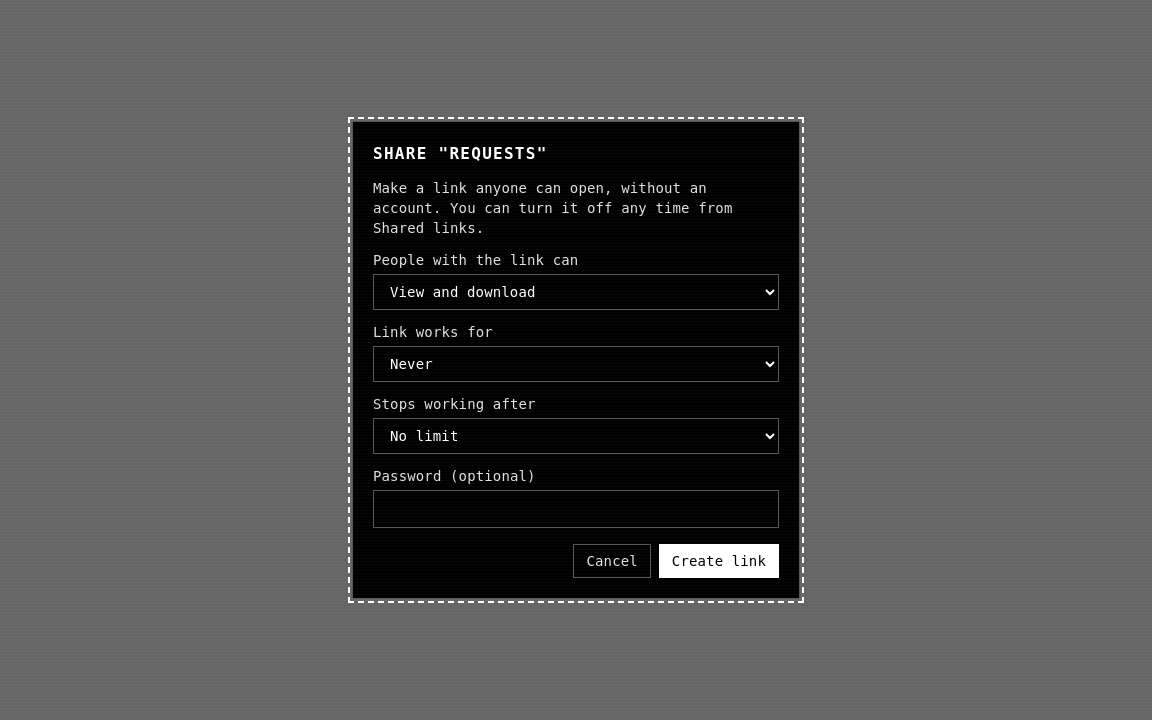
Test: Share dialog options › offers a file request for folders and hides download limits for it
Expected: the dropdown labelled "Stops working after" is shown, [373,418,779,454]
Select "Only send me files (a file request)" in the dropdown labelled "People with the link can" at (576, 292), box [373,274,779,310]
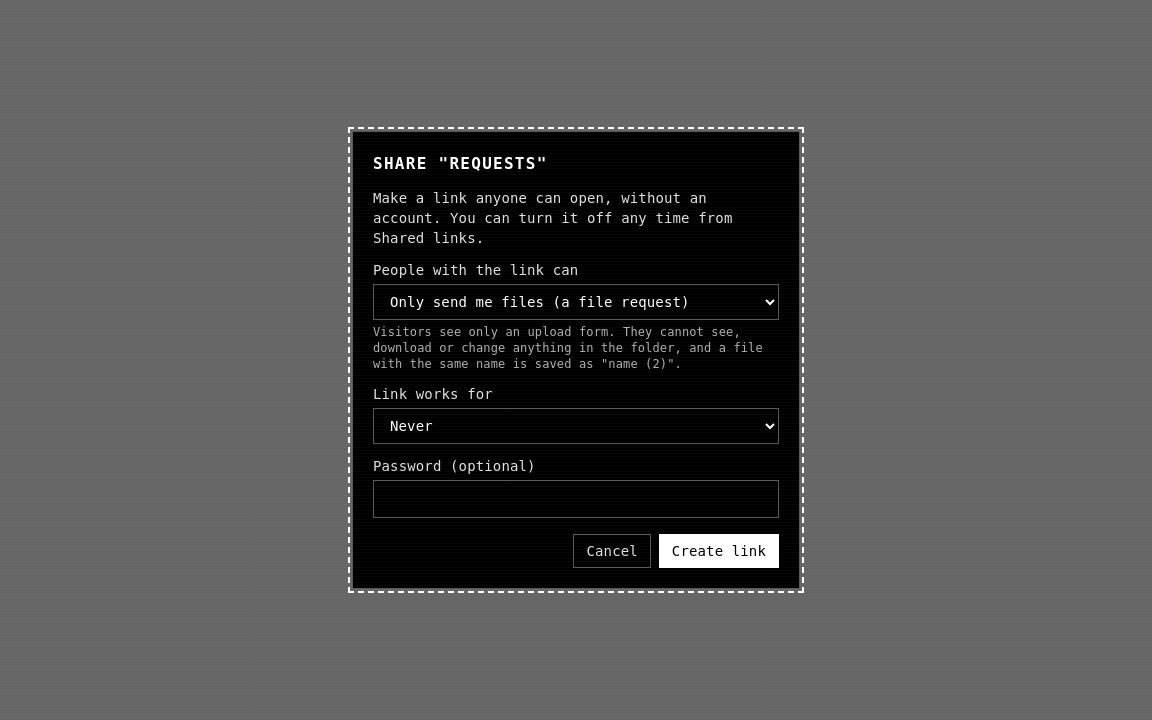
Now the label labelled "Stops working after" is gone
Click the button "Create link" at (719, 551), box [659,534,779,568]
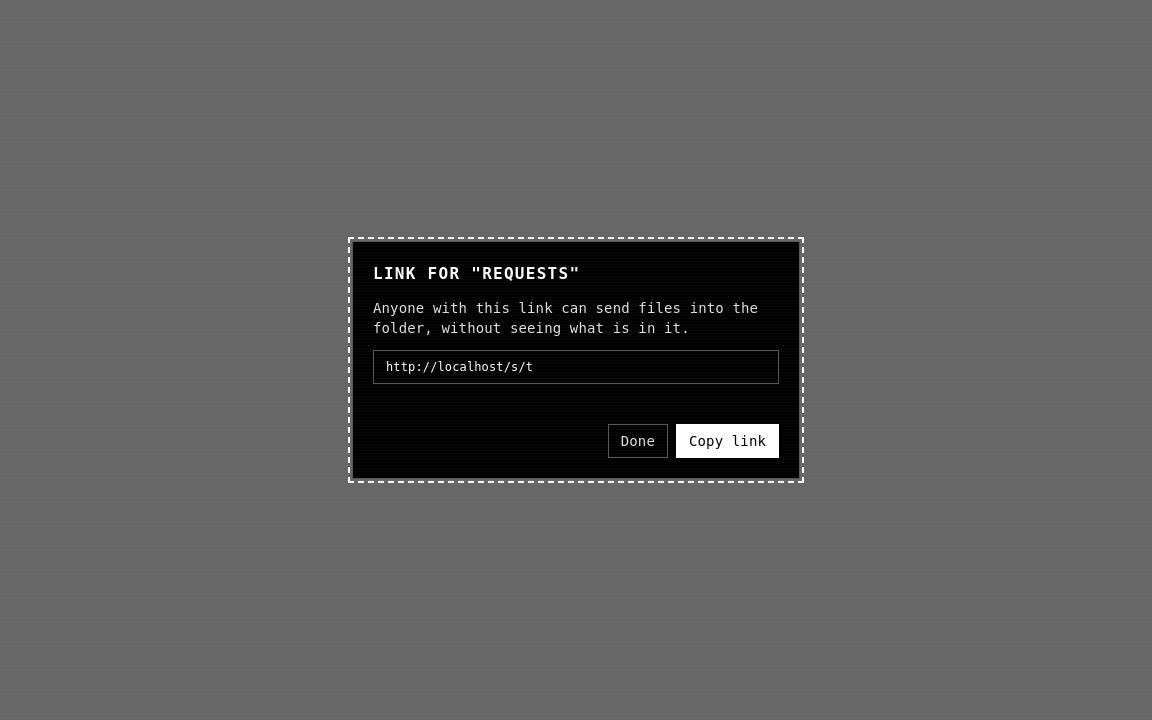
Now the text "send files into the folder" is shown, box [373,300,758,336]
